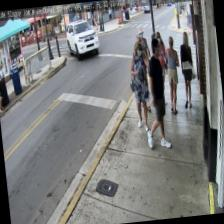person: (137, 38, 171, 149), (127, 41, 156, 132), (162, 36, 184, 115), (149, 30, 171, 106), (177, 31, 197, 108), (133, 27, 155, 96)
